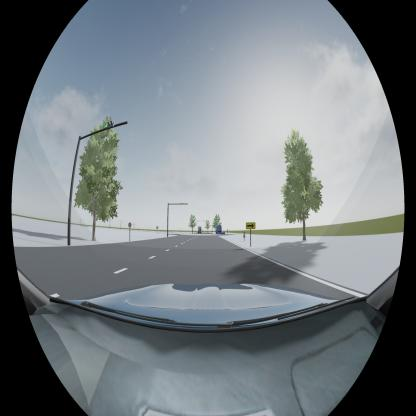Green Light: (104, 121, 115, 127)
Red Light: (180, 203, 184, 205)
Speed Limit 30: (128, 222, 132, 228)
